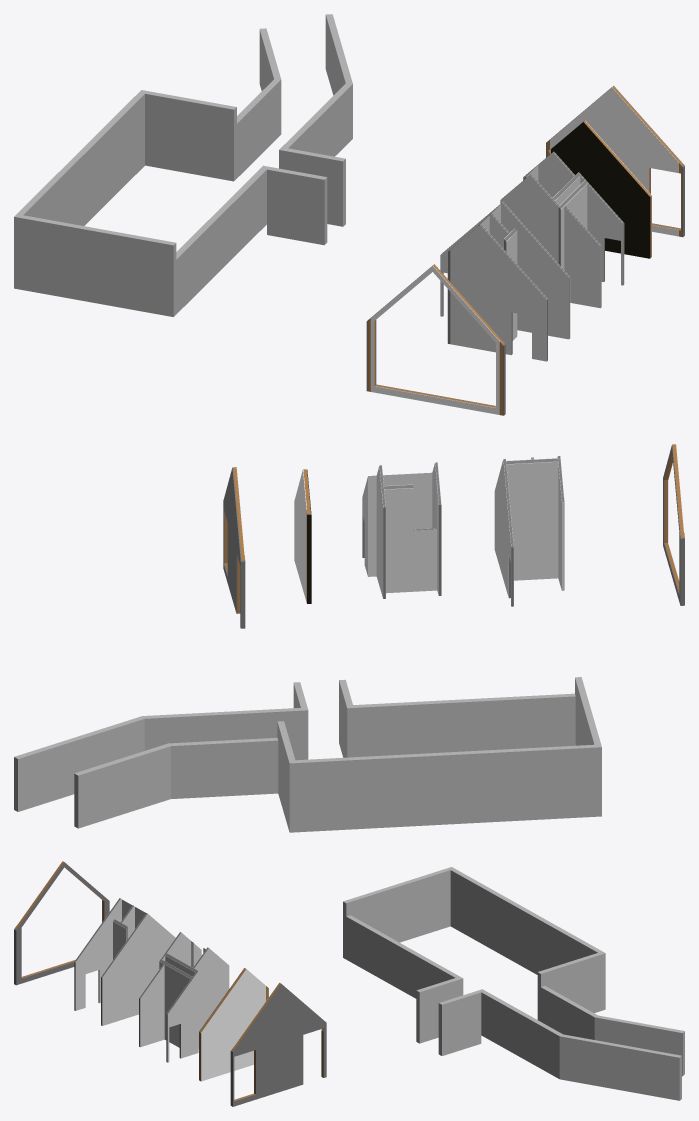
File: rac_basic_sample_project_Level_2_IfcWallStandardCase.dae
3 renders of one model, top to bottom at view 1: azimuth 30°, elevation 25°; view 2: azimuth 150°, elevation 25°; view 3: azimuth 270°, elevation 25°, orthographic. The views are drawn at different scales.
Parts seen in each view (by area): view 1: 3_T6_Ndub6XO_ef59N4DQX, 0lntrd6l1AGwfcnKJK5qmF, 3_T6_Ndub6XO_ef59N4DRY, 3_T6_Ndub6XO_ef59N4DOF, 28i3i5WDD8Ju0YHnzXOzdu, 2WEjrPJHb8ux9RBvH$Iq0S, 3lLx0gNe59vvExhby0Bfew, 0lntrd6l1AGwfcnKJK5r28, 38BWtPCUX0VgAKmmGnoLFm, 39NeMDaWPEh9g8$CxWwg0v, 2WEjrPJHb8ux9RBvH$Iq3g, 2wm6PO6TX9IxXwLP21Hz10 (+8 smaller); view 2: 3_T6_Ndub6XO_ef59N4DRY, 2WEjrPJHb8ux9RBvH$Iq0S, 2WEjrPJHb8ux9RBvH$IqPC, 2WEjrPJHb8ux9RBvH$IqSV, 1jq3WIaE92UPTHNxmrWm6f, 2WEjrPJHb8ux9RBvH$IqQR, 2WEjrPJHb8ux9RBvH$Iq3g, 2wm6PO6TX9IxXwLP21Hyl3, 3lLx0gNe59vvExhby0Bfew, 0nbT7BoYn1WRd0KTefRTuG, 0lntrd6l1AGwfcnKJK5r28, 28i3i5WDD8Ju0YHnzXOzdu (+8 smaller); view 3: 3_T6_Ndub6XO_ef59N4DRY, 3lLx0gNe59vvExhby0Bfew, 3_T6_Ndub6XO_ef59N4DQX, 2WEjrPJHb8ux9RBvH$IqSV, 0lntrd6l1AGwfcnKJK5r28, 2WEjrPJHb8ux9RBvH$Iq0S, 28i3i5WDD8Ju0YHnzXOzdu, 2WEjrPJHb8ux9RBvH$Iq3g, 3_T6_Ndub6XO_ef59N4DOF, 38BWtPCUX0VgAKmmGnoLCN, 0lntrd6l1AGwfcnKJK5qmF, 2WEjrPJHb8ux9RBvH$IqPC (+9 smaller).
Boxes of the visible parts, box(x1,y1,x2,y2) form: 3_T6_Ndub6XO_ef59N4DQX: box(14, 214, 176, 316); 0lntrd6l1AGwfcnKJK5qmF: box(447, 224, 547, 361); 3_T6_Ndub6XO_ef59N4DRY: box(17, 90, 147, 225); 3_T6_Ndub6XO_ef59N4DOF: box(145, 91, 236, 181); 28i3i5WDD8Ju0YHnzXOzdu: box(551, 120, 651, 258); 2WEjrPJHb8ux9RBvH$Iq0S: box(176, 165, 269, 313); 3lLx0gNe59vvExhby0Bfew: box(546, 85, 684, 237); 0lntrd6l1AGwfcnKJK5r28: box(440, 201, 570, 339); 38BWtPCUX0VgAKmmGnoLFm: box(267, 167, 327, 245); 39NeMDaWPEh9g8$CxWwg0v: box(366, 264, 505, 415); 2WEjrPJHb8ux9RBvH$Iq3g: box(279, 78, 352, 169); 2wm6PO6TX9IxXwLP21Hz10: box(564, 205, 601, 308); 3_T6_Ndub6XO_ef59N4DRY: box(288, 744, 595, 832); 2WEjrPJHb8ux9RBvH$Iq0S: box(346, 693, 575, 757); 2WEjrPJHb8ux9RBvH$IqPC: box(158, 737, 278, 798); 2WEjrPJHb8ux9RBvH$IqSV: box(14, 719, 144, 811); 1jq3WIaE92UPTHNxmrWm6f: box(506, 458, 558, 580); 2WEjrPJHb8ux9RBvH$IqQR: box(74, 746, 170, 828); 2WEjrPJHb8ux9RBvH$Iq3g: box(132, 707, 308, 760); 2wm6PO6TX9IxXwLP21Hyl3: box(384, 483, 437, 593); 3lLx0gNe59vvExhby0Bfew: box(223, 467, 245, 628); 0nbT7BoYn1WRd0KTefRTuG: box(370, 472, 432, 576); 0lntrd6l1AGwfcnKJK5r28: box(494, 459, 513, 606); 28i3i5WDD8Ju0YHnzXOzdu: box(294, 469, 311, 603); 3_T6_Ndub6XO_ef59N4DRY: box(450, 869, 605, 1010); 3lLx0gNe59vvExhby0Bfew: box(230, 982, 326, 1106); 3_T6_Ndub6XO_ef59N4DQX: box(343, 867, 454, 959); 2WEjrPJHb8ux9RBvH$IqSV: box(564, 1034, 681, 1100); 0lntrd6l1AGwfcnKJK5r28: box(101, 913, 175, 1025); 2WEjrPJHb8ux9RBvH$Iq0S: box(346, 915, 463, 998); 28i3i5WDD8Ju0YHnzXOzdu: box(199, 968, 268, 1081); 2WEjrPJHb8ux9RBvH$Iq3g: box(478, 989, 569, 1080); 3_T6_Ndub6XO_ef59N4DOF: box(537, 953, 601, 1021); 38BWtPCUX0VgAKmmGnoLCN: box(438, 990, 481, 1055); 0lntrd6l1AGwfcnKJK5qmF: box(74, 898, 121, 1010); 2WEjrPJHb8ux9RBvH$IqPC: box(541, 986, 604, 1041).
Size of the model in its own units: 26.36 by 36.7 by 8.2.
